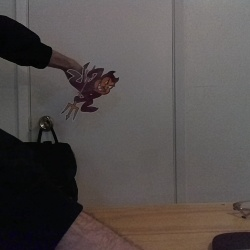sparky: (60, 60, 119, 121)
